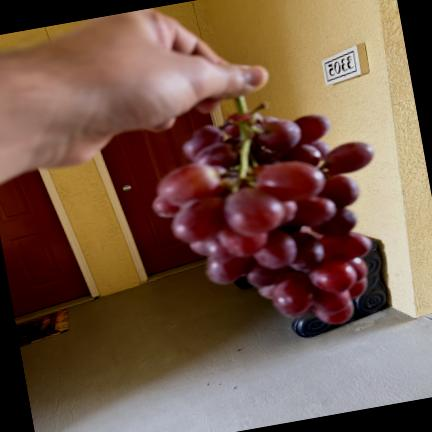grape_cluster: (153, 96, 374, 325)
